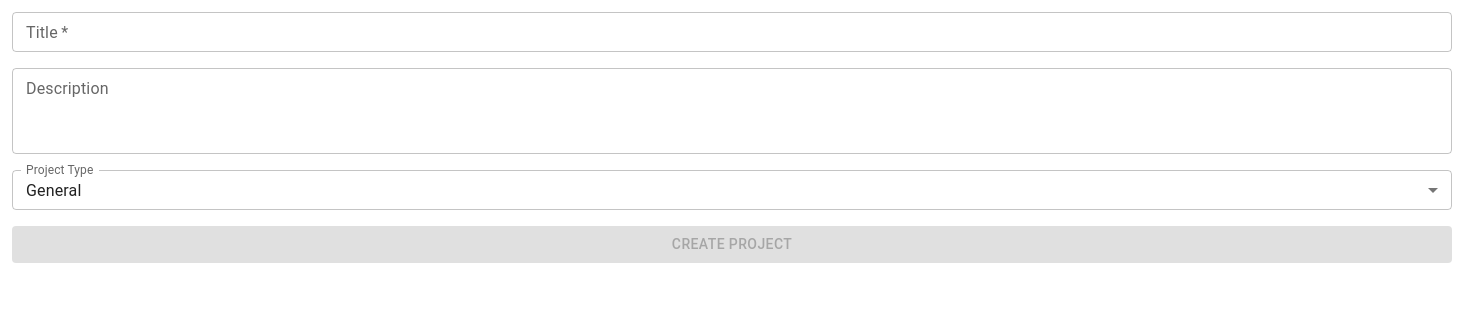
Test case: ProjectForm › does not show sponsorship as a selectable option in create mode
What coordinates should you click on to do the following:
click the dropdown named "project type"
I would click on:
 (54, 190)
Its box is [26,180,82,200].
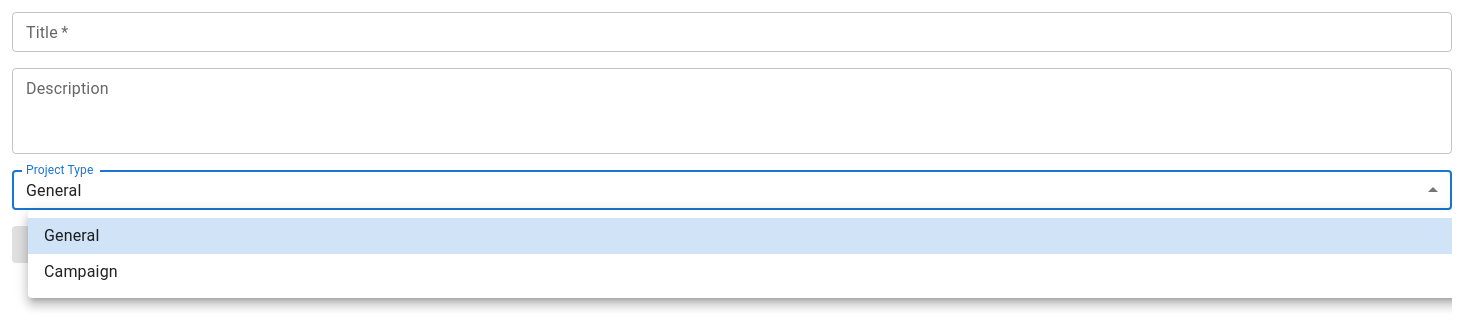
Check: the option "Campaign" is shown, box [44,262,118,281]
